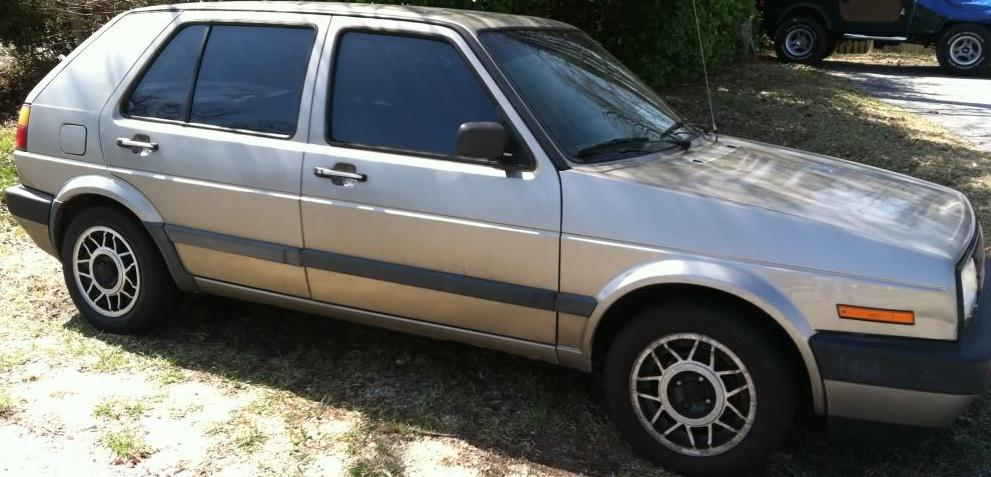backlight: (4, 87, 44, 166)
side_glass: (127, 8, 557, 184)
